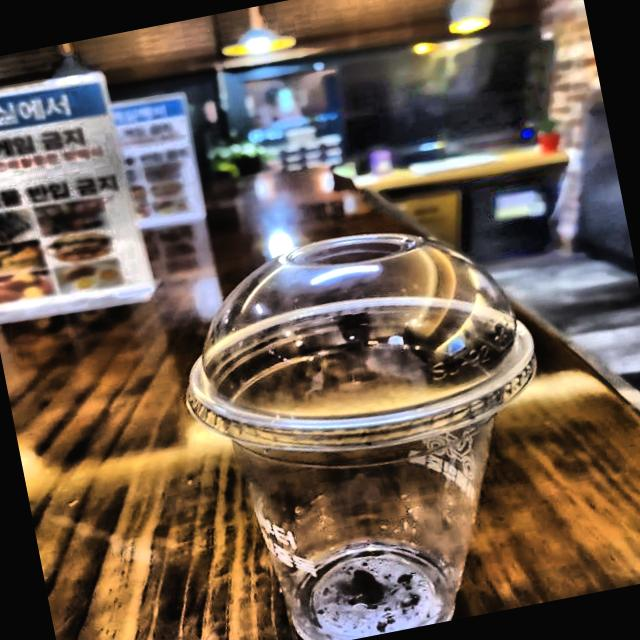plastic cup: (135, 186, 610, 640)
